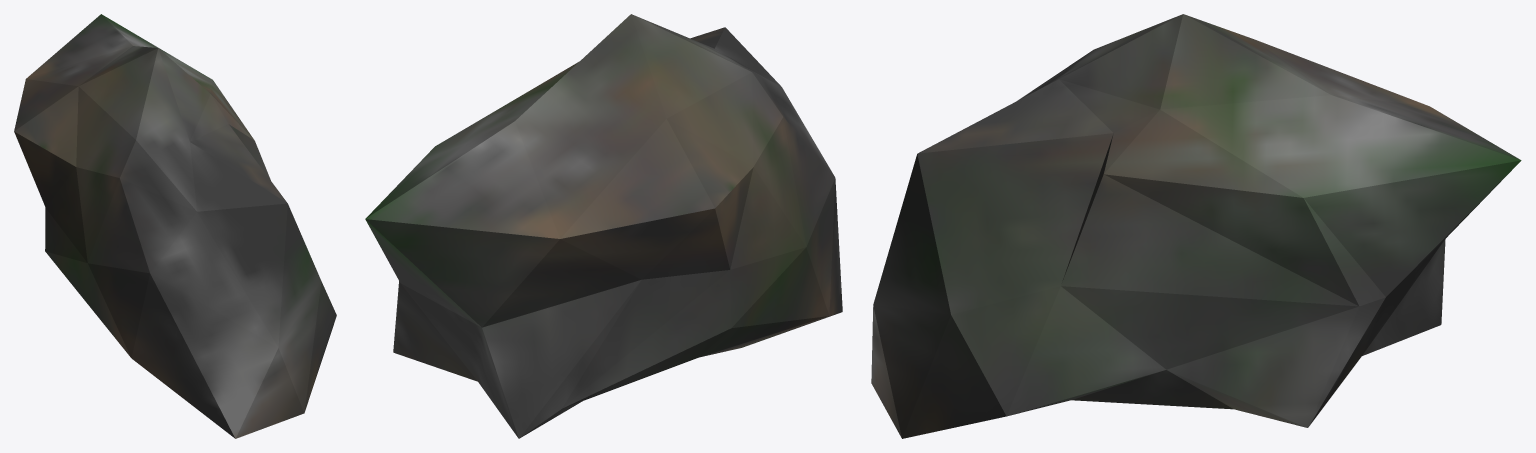
Rendered from rock006.fbx.
The picture shows the model from 3 angles, left to right: view 1: azimuth 30°, elevation 25°; view 2: azimuth 150°, elevation 25°; view 3: azimuth 270°, elevation 25°; orthographic projection. The views are drawn at different scales.
Parts seen in each view (by area): view 1: Icosphere; view 2: Icosphere; view 3: Icosphere.
Boxes of the visible parts, left/top/right/bottom form: Icosphere: left=14, top=14, right=336, bottom=438; Icosphere: left=365, top=14, right=842, bottom=438; Icosphere: left=871, top=14, right=1521, bottom=438.
Size of the model in its own units: 136 by 168 by 248.
